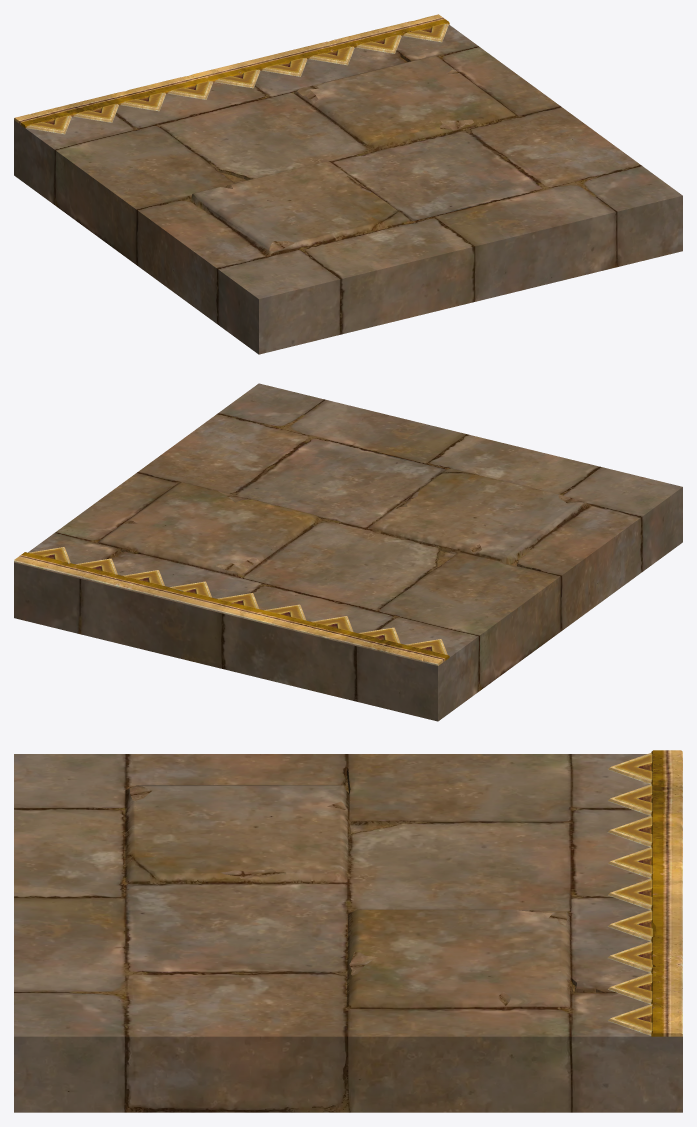
3 renders of one model, top to bottom at view 1: azimuth 30°, elevation 25°; view 2: azimuth 150°, elevation 25°; view 3: azimuth 270°, elevation 25°, orthographic. The views are drawn at different scales.
Visible parts, largest first — view 1: SM_Vault_4m_Floor_01_v2_LOD0; view 2: SM_Vault_4m_Floor_01_v2_LOD0; view 3: SM_Vault_4m_Floor_01_v2_LOD0.
Part boxes in pixels (x1=…): SM_Vault_4m_Floor_01_v2_LOD0: x1=14, y1=14, x2=682, y2=354; SM_Vault_4m_Floor_01_v2_LOD0: x1=14, y1=383, x2=682, y2=721; SM_Vault_4m_Floor_01_v2_LOD0: x1=14, y1=750, x2=682, y2=1112.
Bounding box in the file's own units: 4 × 0.543 × 4.
4 materials, 4 textured.
